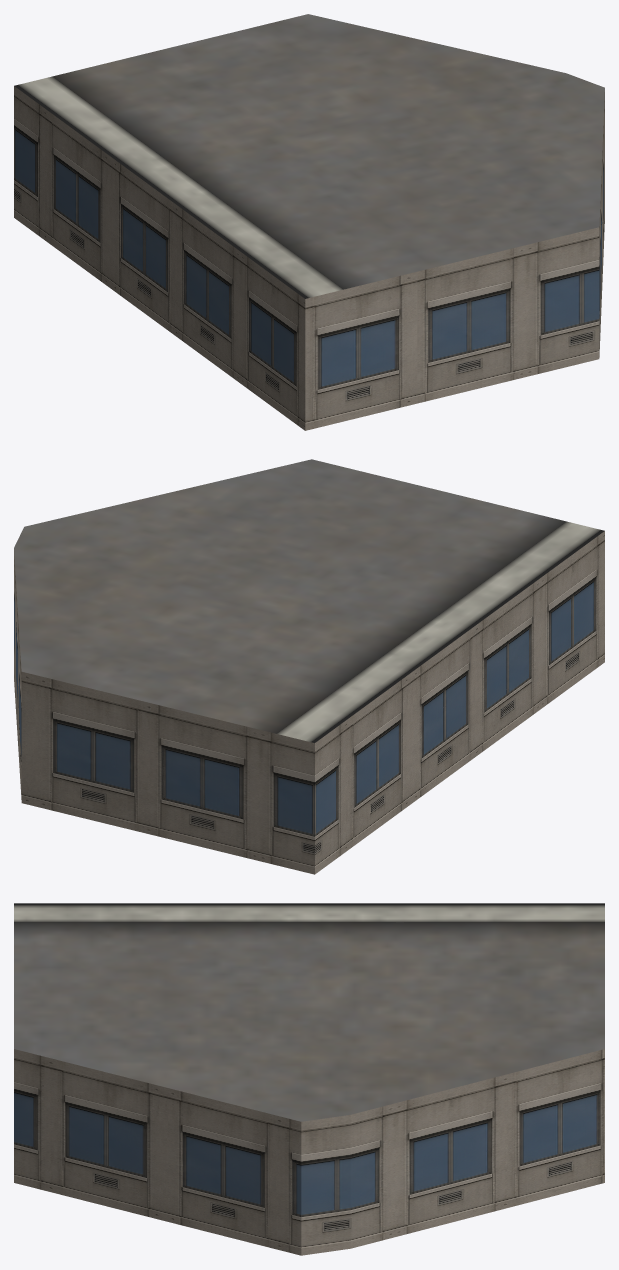
The model's file is building_light_15.glb.
3 renders of one model, top to bottom at view 1: azimuth 30°, elevation 25°; view 2: azimuth 150°, elevation 25°; view 3: azimuth 270°, elevation 25°, orthographic.
Parts seen in each view (by area): view 1: buildings/saxarba/building_light/building_light_15; view 2: buildings/saxarba/building_light/building_light_15; view 3: buildings/saxarba/building_light/building_light_15.
Boxes of the visible parts, <box> form: buildings/saxarba/building_light/building_light_15: <box>14,14,604,430</box>; buildings/saxarba/building_light/building_light_15: <box>14,459,604,874</box>; buildings/saxarba/building_light/building_light_15: <box>14,903,604,1255</box>.
Size of the model in its own units: 63 by 18 by 72.
